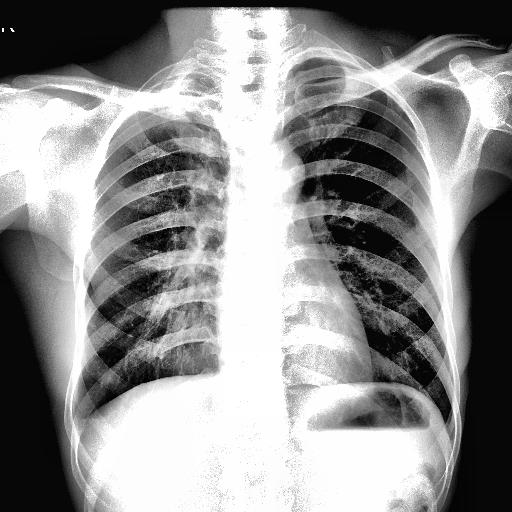10- Pleural effusion: (60, 402, 90, 450), (70, 409, 98, 440)
11- Pleural thickening: (137, 80, 224, 116), (60, 402, 90, 450), (70, 409, 98, 440)
7- Lung Opacity: (126, 70, 231, 112), (146, 72, 202, 105)
